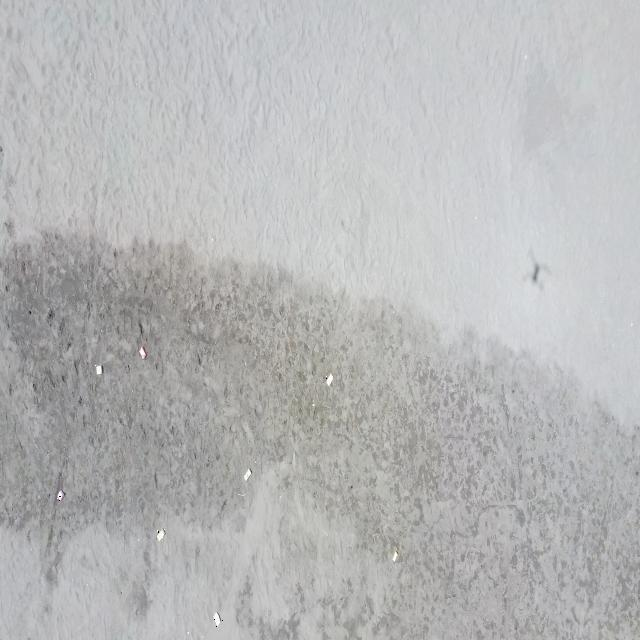retort-pouch: (242, 467, 253, 483), (214, 612, 224, 628), (326, 372, 336, 387), (156, 528, 167, 541), (139, 346, 148, 359), (57, 490, 67, 501), (95, 364, 104, 376), (392, 552, 400, 563)
